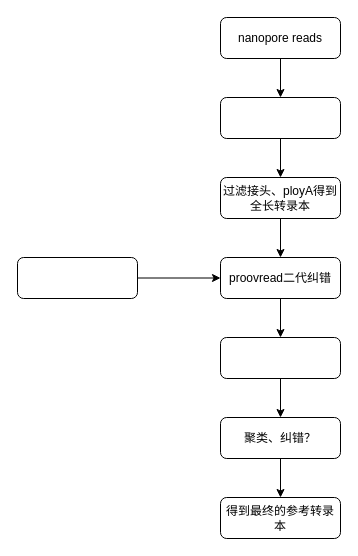
Image size: 358x556. Some labels were removed from this diagram. Each missing label, with the box of its shape:
canu自身纠错: (220, 96, 340, 138)
illumina reads: (16, 256, 138, 298)
得到纠错后转录本: (220, 336, 340, 378)
